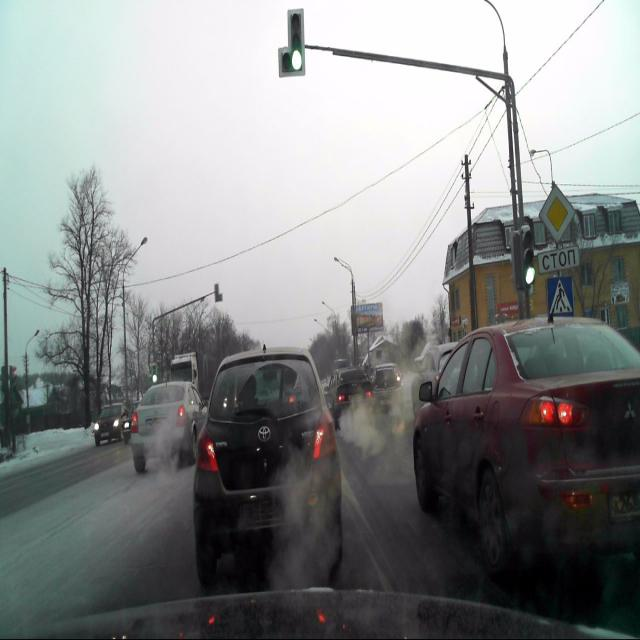road sign: (540, 182, 574, 241), (546, 272, 576, 317), (538, 244, 579, 271)
